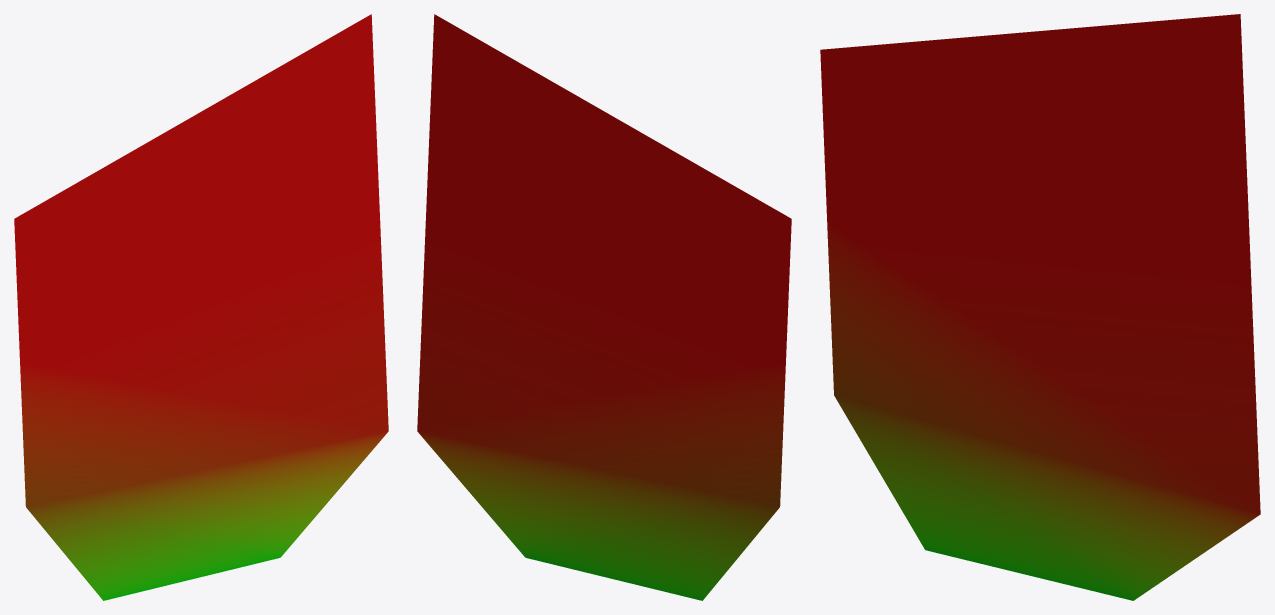
Rendered from Lemongrass_LOD3_Var5_sktne.fbx.
The picture shows the model from 3 angles, left to right: view 1: azimuth 30°, elevation 25°; view 2: azimuth 150°, elevation 25°; view 3: azimuth 330°, elevation 25°; orthographic projection. The views are drawn at different scales.
Visible parts, largest first — view 1: _2f7f_Var5_LOD3; view 2: _2f7f_Var5_LOD3; view 3: _2f7f_Var5_LOD3.
Part boxes in pixels (x1,y1,x2,y2): _2f7f_Var5_LOD3: [14, 14, 388, 600]; _2f7f_Var5_LOD3: [417, 14, 791, 600]; _2f7f_Var5_LOD3: [820, 14, 1260, 600].
Bounding box in the file's own units: 50.76 × 67.53 × 2.92e-06.
